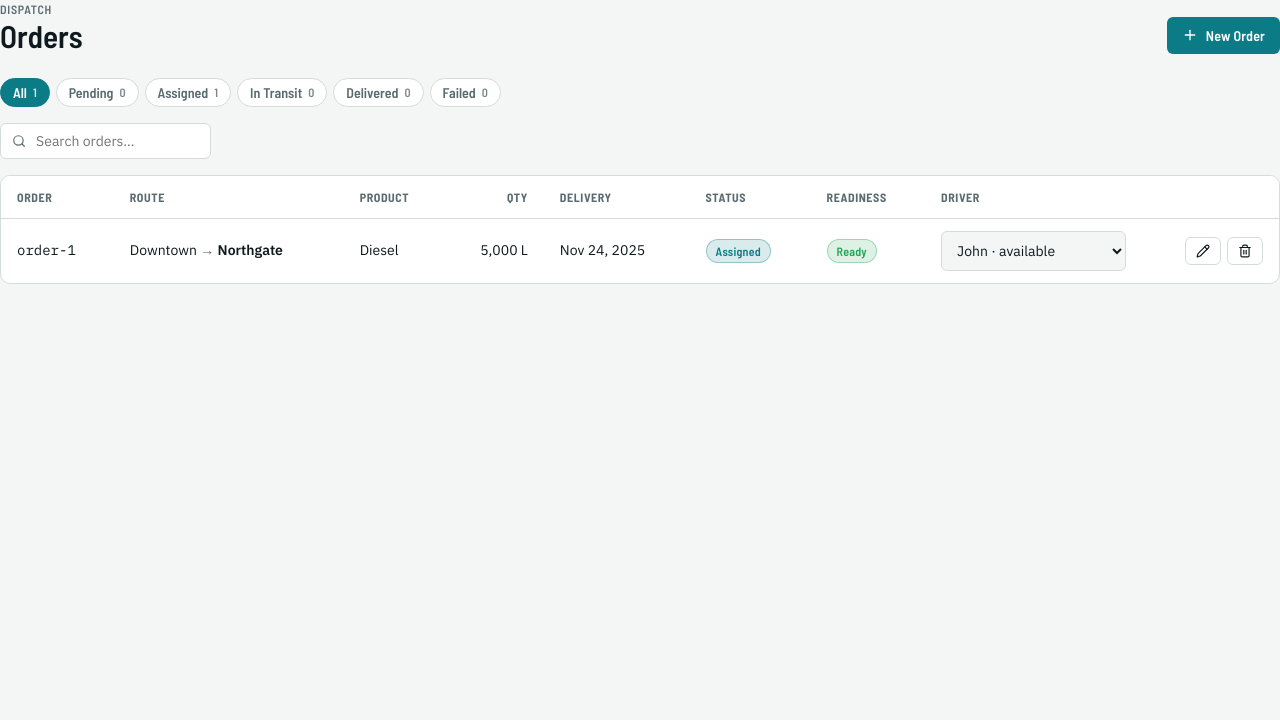
Test: OrdersPage › deletes an order after confirmation
Check: the text "order-1" is shown, box left=17, top=241, right=76, bottom=259
Click the button named "Delete order-1" at (1245, 251), box left=1227, top=237, right=1263, bottom=265
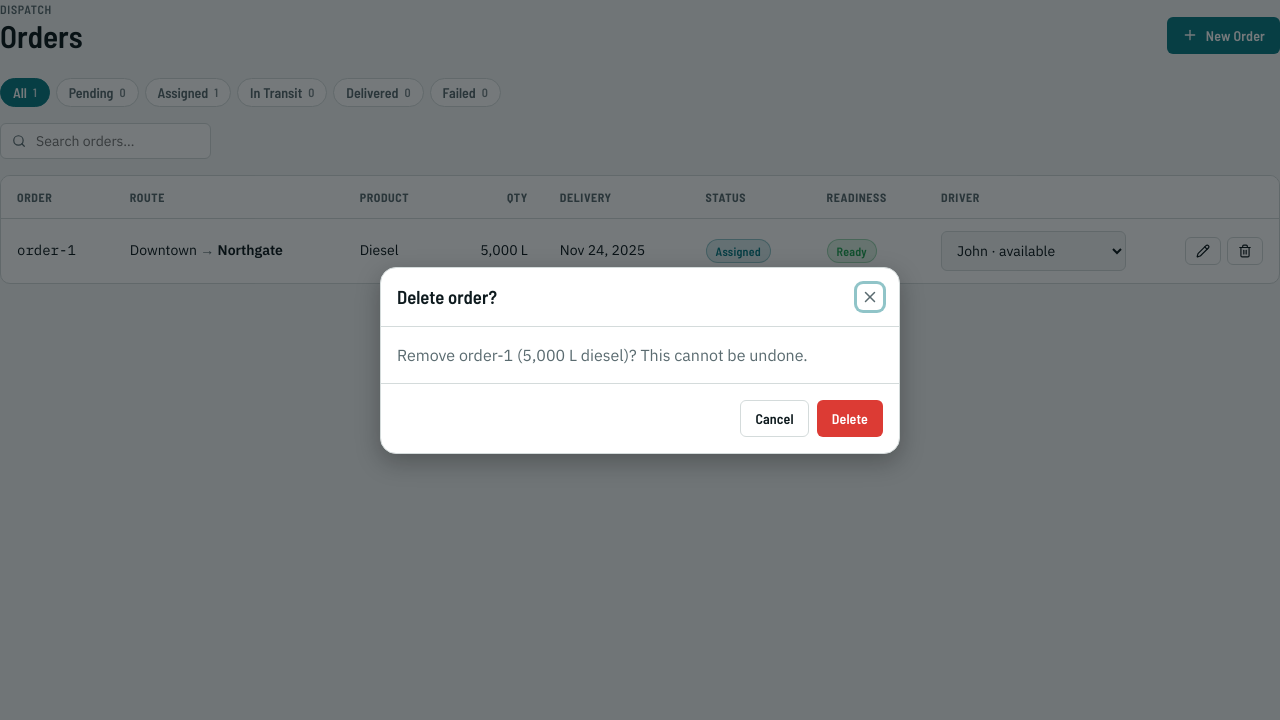
Click the button "Delete" at (850, 418), box left=817, top=400, right=883, bottom=436
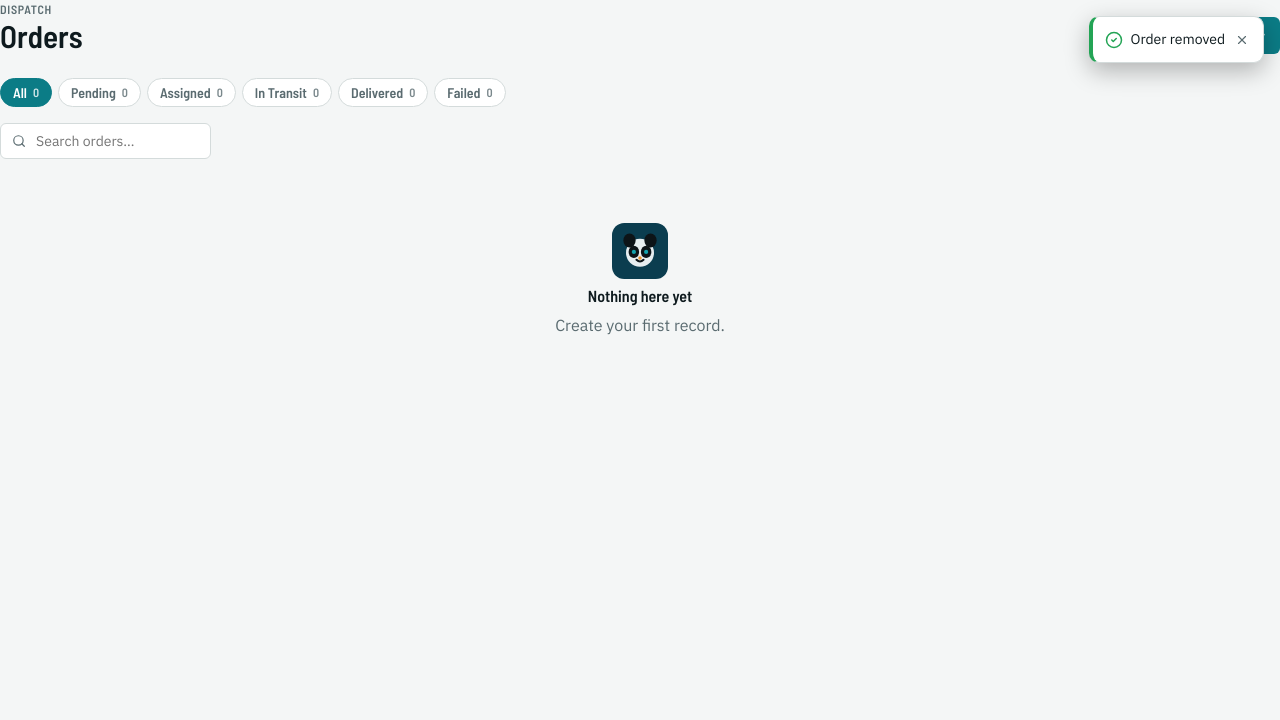
Check: the text "order-1" is gone
